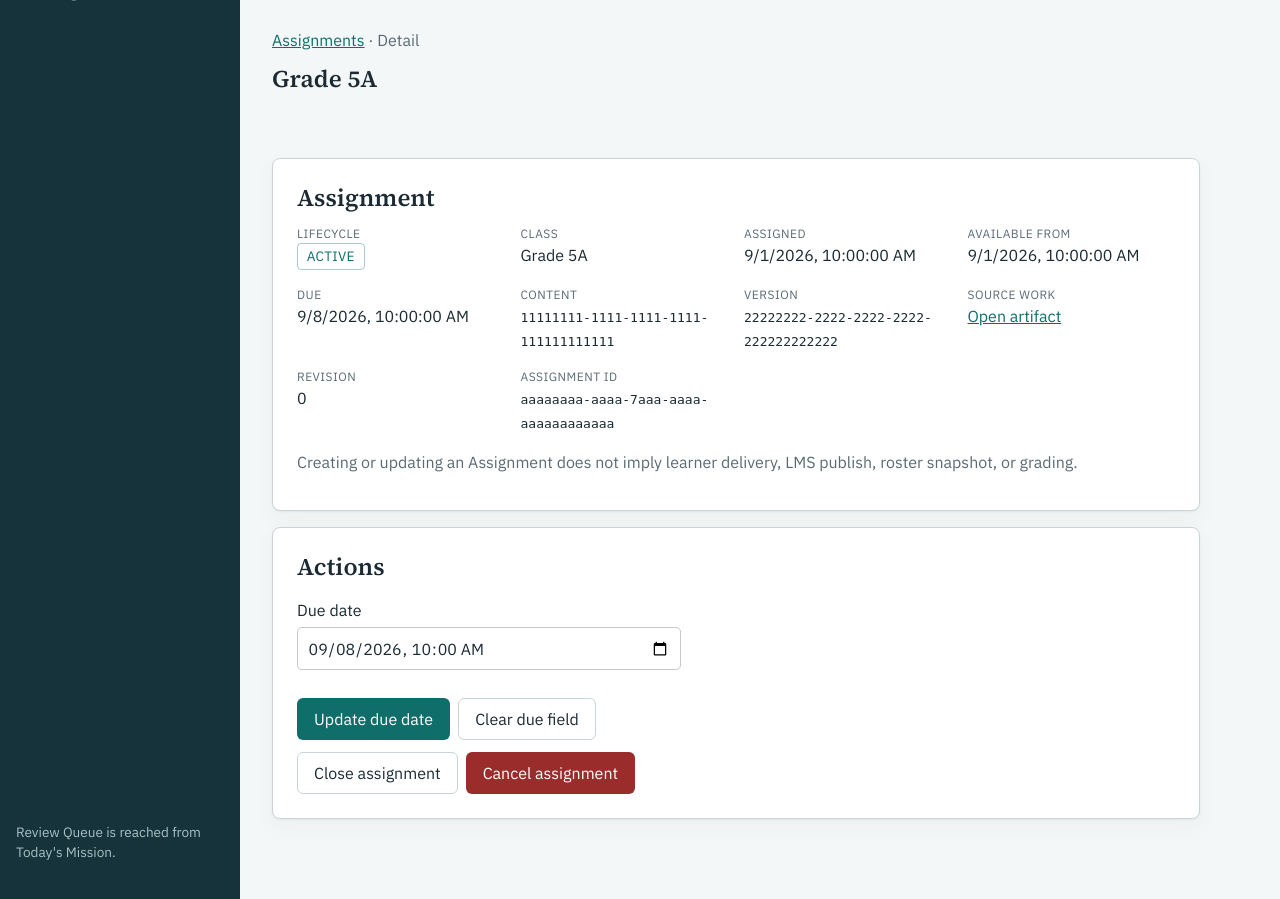
it: TOS-DEV06-I04 Assignment detail mutations › 412 reloads and informs without silent second mutation
The width and height of the screenshot is (1280, 899).
(page scrolled)
Click the button "Update due date": x=374, y=719 [297, 698, 450, 740]
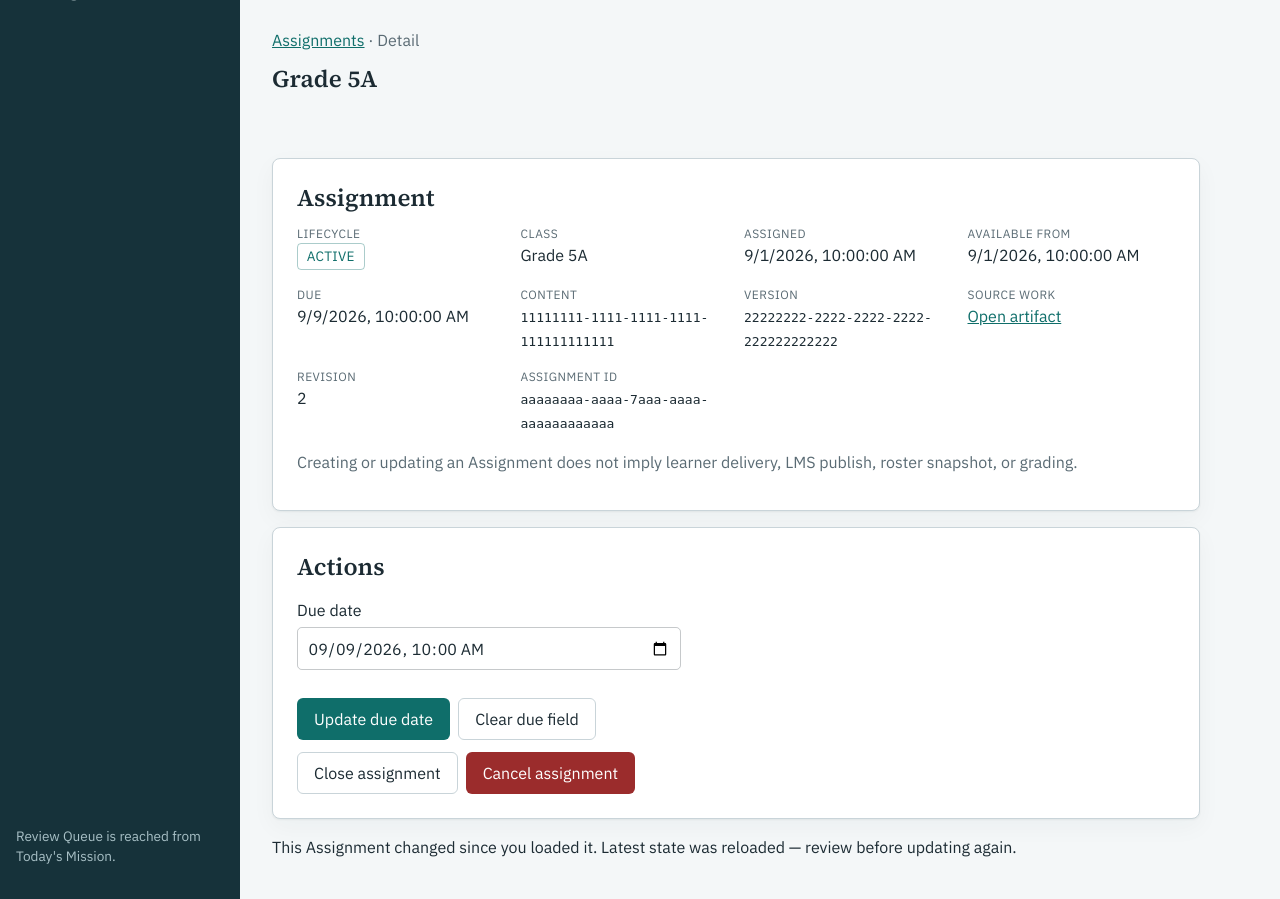
Expected: the text "Latest state was reloaded" is shown, [272, 837, 1017, 857]
